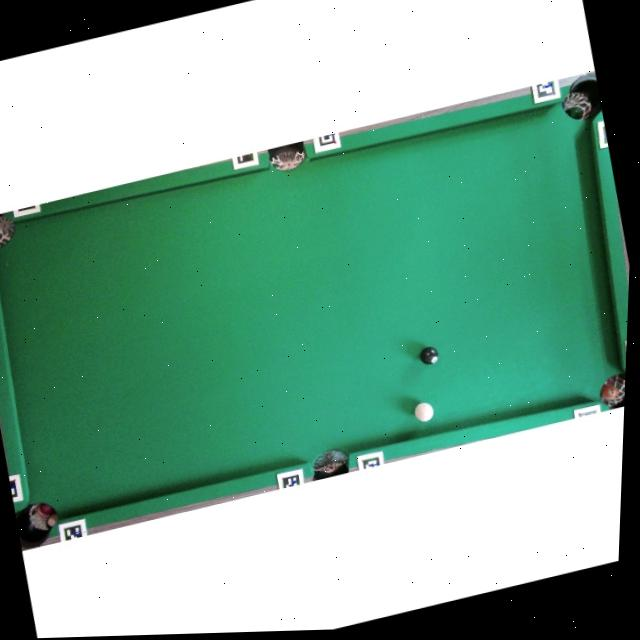cue ball: (411, 399, 436, 424)
other: (418, 344, 440, 366)
